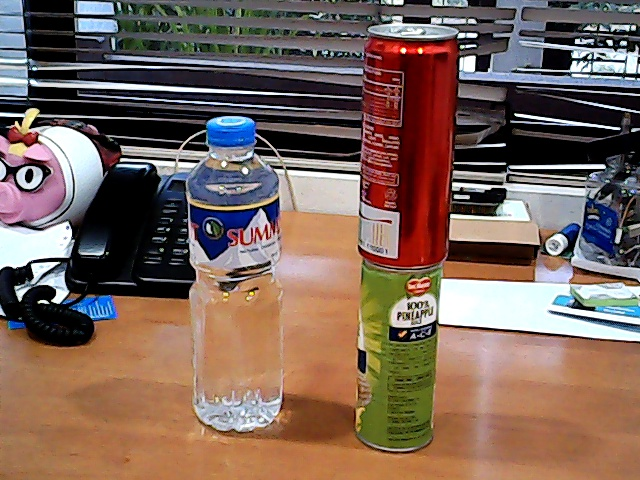Cola: (350, 18, 466, 268)
Pine Juice: (350, 261, 453, 457)
Summit Water: (171, 110, 294, 435)
